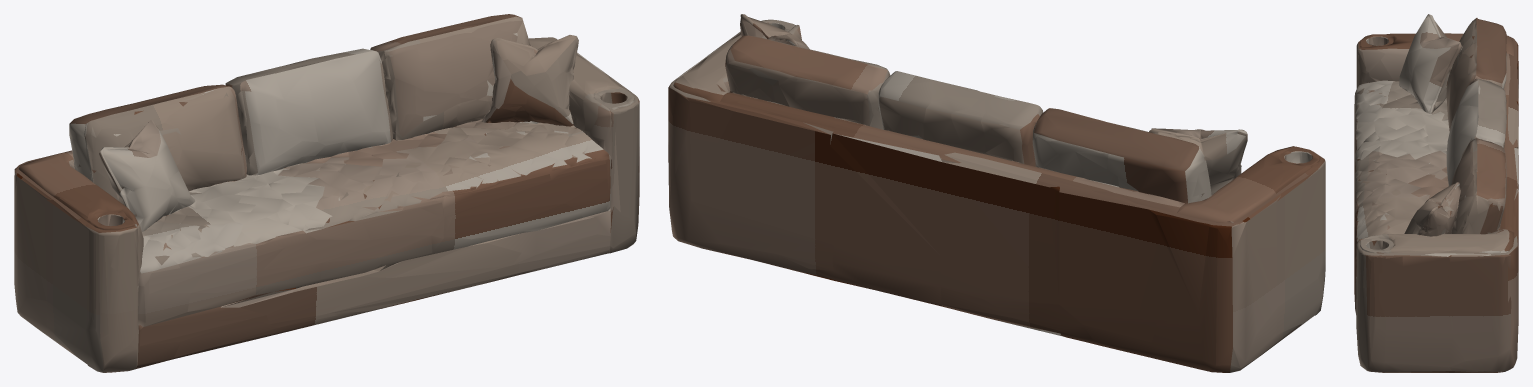
The model's file is cab_divan.glb.
3 views of the same model, side by side, from view 1: azimuth 30°, elevation 25°; view 2: azimuth 150°, elevation 25°; view 3: azimuth 270°, elevation 25° (orthographic). The views are drawn at different scales.
Parts seen in each view (by area): view 1: LO; view 2: LO; view 3: LO.
Part boxes in pixels (x1,y1,x2,y2): LO: (14, 14, 639, 372); LO: (668, 14, 1325, 372); LO: (1354, 14, 1518, 372).
Size of the model in its own units: 2.1 by 0.7144 by 0.6568.
Materials: 1 (1 with a texture image).
